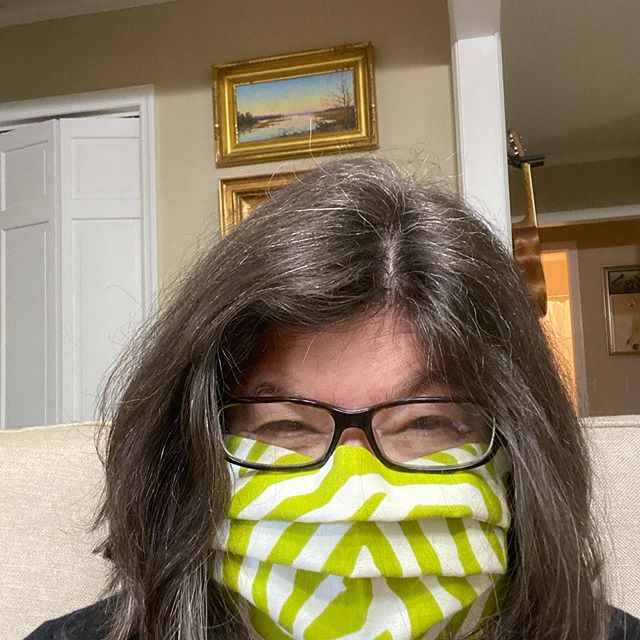homemade: (201, 427, 513, 640)
